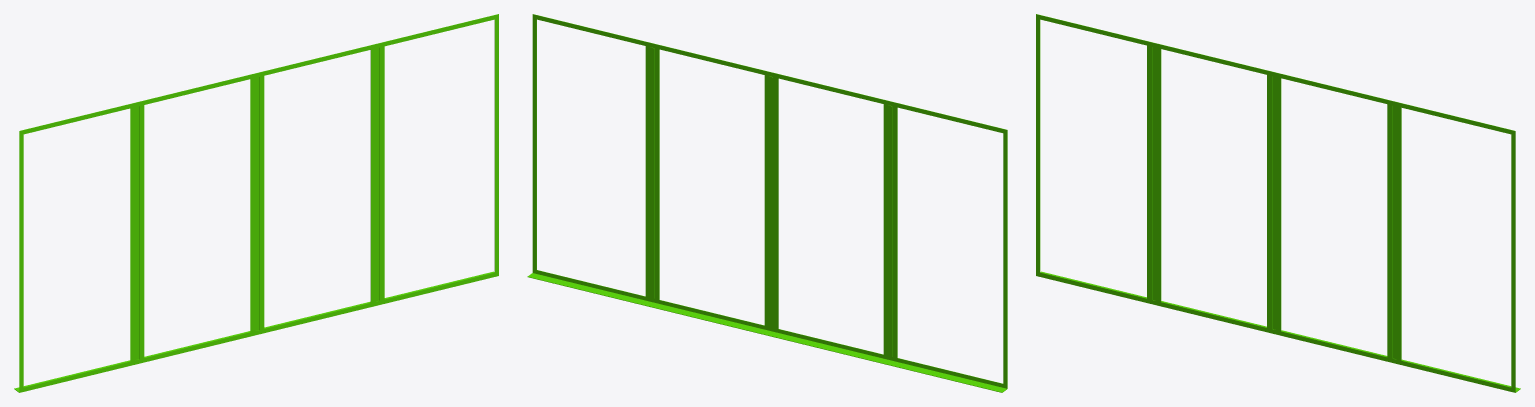
File: SM_LR_WindowFrame.fbx
3 views of the same model, side by side, from view 1: azimuth 30°, elevation 25°; view 2: azimuth 150°, elevation 25°; view 3: azimuth 330°, elevation 25° (orthographic).
Visible parts, largest first — view 1: SM_LR_WindowFrame; view 2: SM_LR_WindowFrame; view 3: SM_LR_WindowFrame.
Part boxes in pixels (x1=…): SM_LR_WindowFrame: x1=14, y1=14, x2=498, y2=392; SM_LR_WindowFrame: x1=527, y1=14, x2=1007, y2=392; SM_LR_WindowFrame: x1=1036, y1=14, x2=1520, y2=392.
Bounding box in the file's own units: 231 × 120 × 4.5.
